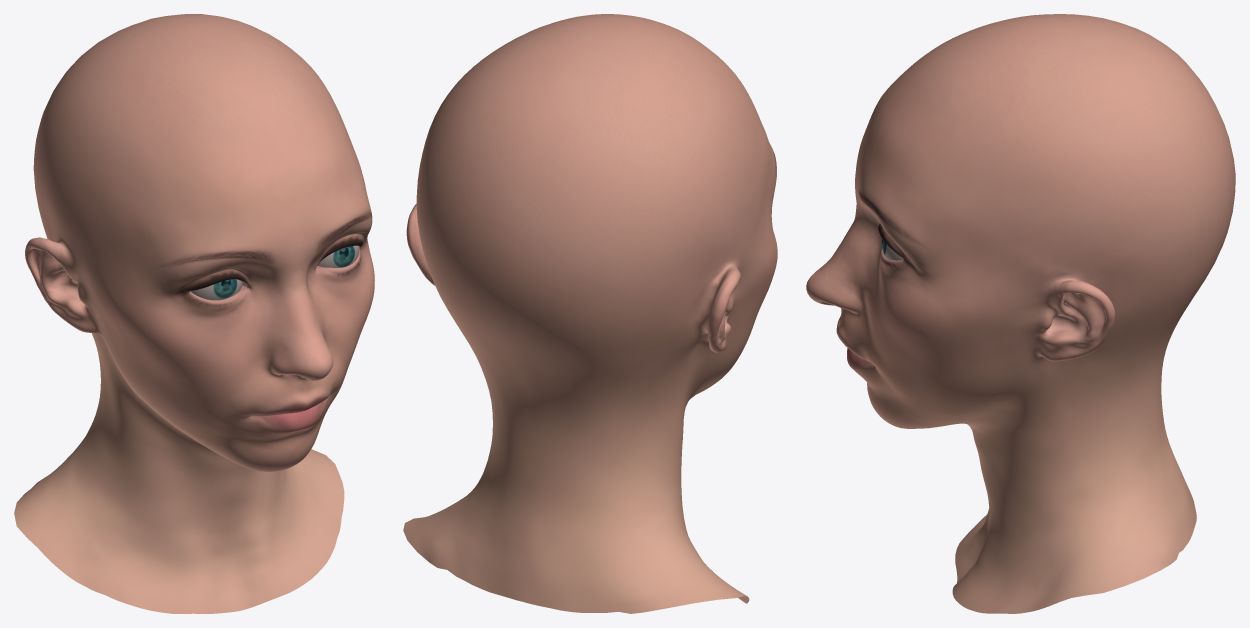
The picture shows the model from 3 angles, left to right: view 1: azimuth 30°, elevation 25°; view 2: azimuth 150°, elevation 25°; view 3: azimuth 270°, elevation 25°; orthographic projection. The views are drawn at different scales.
Parts seen in each view (by area): view 1: Registered head, right eye, left eye; view 2: Registered head; view 3: Registered head.
Part boxes in pixels (box(x1,y1,x2,y2)): Registered head: box(14, 14, 374, 613); right eye: box(191, 279, 242, 300); left eye: box(318, 245, 359, 267); Registered head: box(403, 14, 777, 613); Registered head: box(806, 14, 1235, 613).
Bounding box in the file's own units: 1.15 × 1.92 × 1.35.
Materials: 3 (3 with a texture image).
